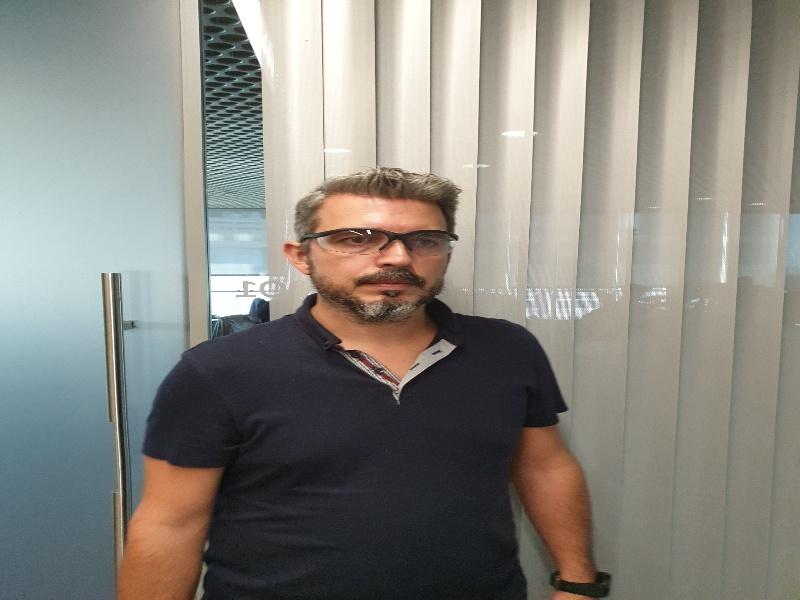Gozluk: (302, 230, 461, 259)
